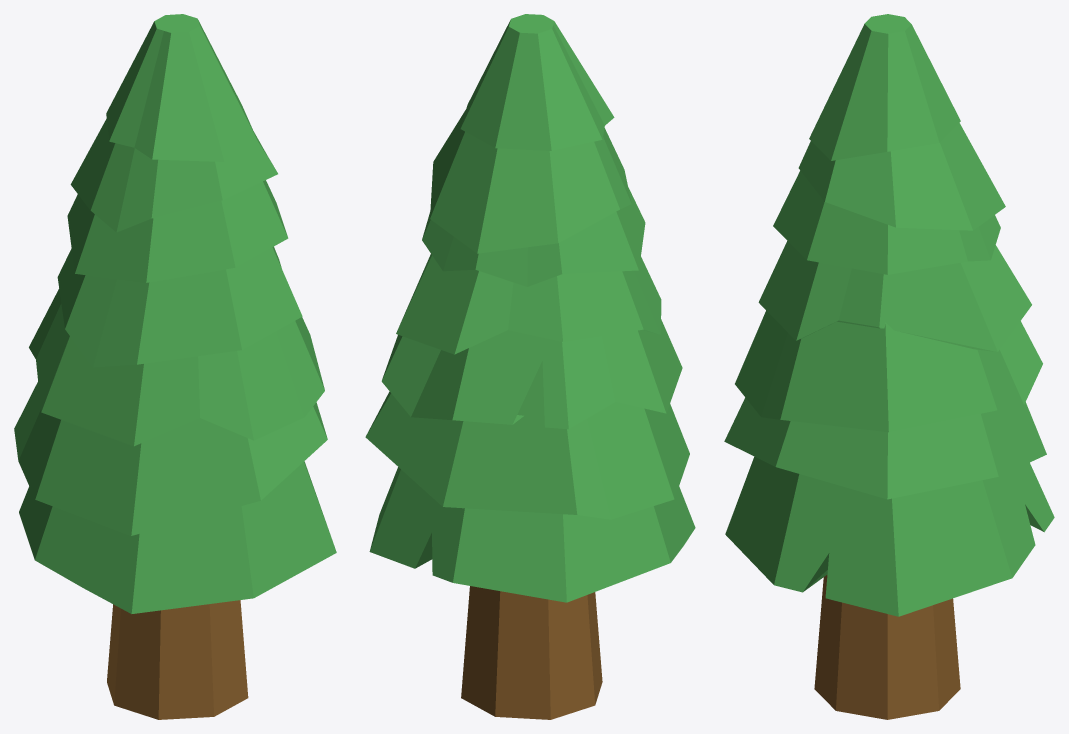
The model's file is Evergreen Tree.fbx.
3 views of the same model, side by side, from view 1: azimuth 30°, elevation 25°; view 2: azimuth 150°, elevation 25°; view 3: azimuth 270°, elevation 25° (orthographic).
Visible parts, largest first — view 1: Evergreen Tree; view 2: Evergreen Tree; view 3: Evergreen Tree.
Part boxes in pixels (x1,y1,x2,y2): Evergreen Tree: (14, 14, 336, 719); Evergreen Tree: (365, 14, 695, 719); Evergreen Tree: (724, 14, 1054, 719).
Bounding box in the file's own units: 310 × 683 × 307.
